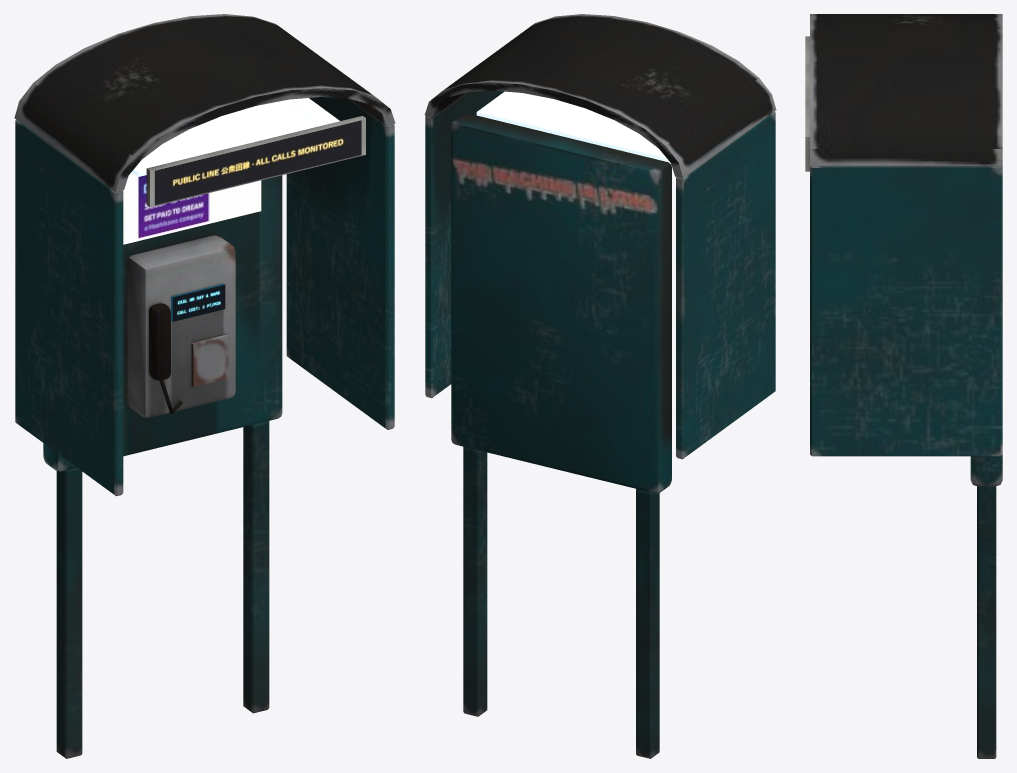
Rendered from phone_kiosk.glb.
3 renders of one model, left to right at view 1: azimuth 30°, elevation 25°; view 2: azimuth 150°, elevation 25°; view 3: azimuth 270°, elevation 25°, orthographic. The views are drawn at different scales.
Visible parts, largest first — view 1: phone_kiosk; view 2: phone_kiosk; view 3: phone_kiosk.
Part boxes in pixels (x1=…): phone_kiosk: x1=14, y1=14, x2=395, y2=758; phone_kiosk: x1=424, y1=14, x2=776, y2=758; phone_kiosk: x1=805, y1=14, x2=1002, y2=758.
Size of what is drawn, in the model's own units: 0.96 by 2.3 by 0.615.
Materials: 1 (1 with a texture image).
